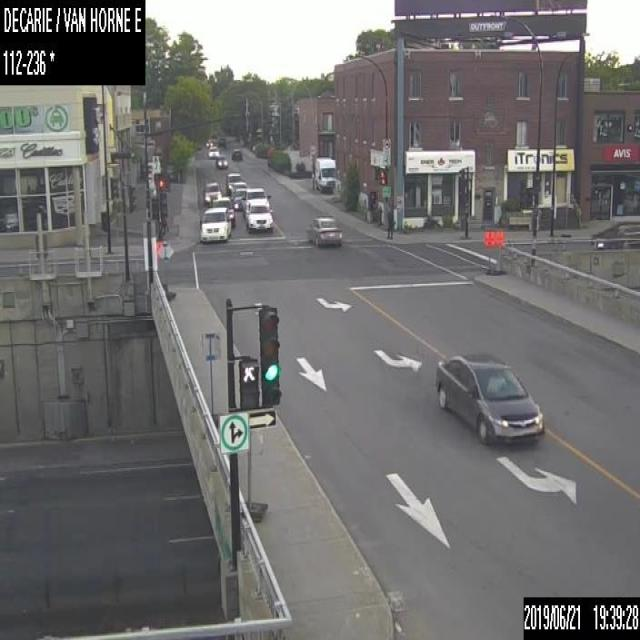construction: (239, 426, 267, 520), (202, 329, 222, 428), (156, 236, 176, 302), (494, 228, 506, 275), (483, 228, 493, 274)
pedestrian: (386, 204, 394, 239)
vehicle: (434, 352, 544, 444), (590, 218, 639, 248), (199, 205, 231, 241), (305, 215, 342, 244), (244, 197, 272, 230), (313, 156, 335, 193), (241, 188, 270, 215), (210, 196, 234, 224), (203, 180, 222, 204), (225, 171, 241, 196), (233, 186, 248, 209), (231, 180, 246, 202), (207, 145, 219, 158), (216, 154, 227, 167), (230, 148, 241, 160), (205, 137, 213, 147), (218, 136, 225, 146)
